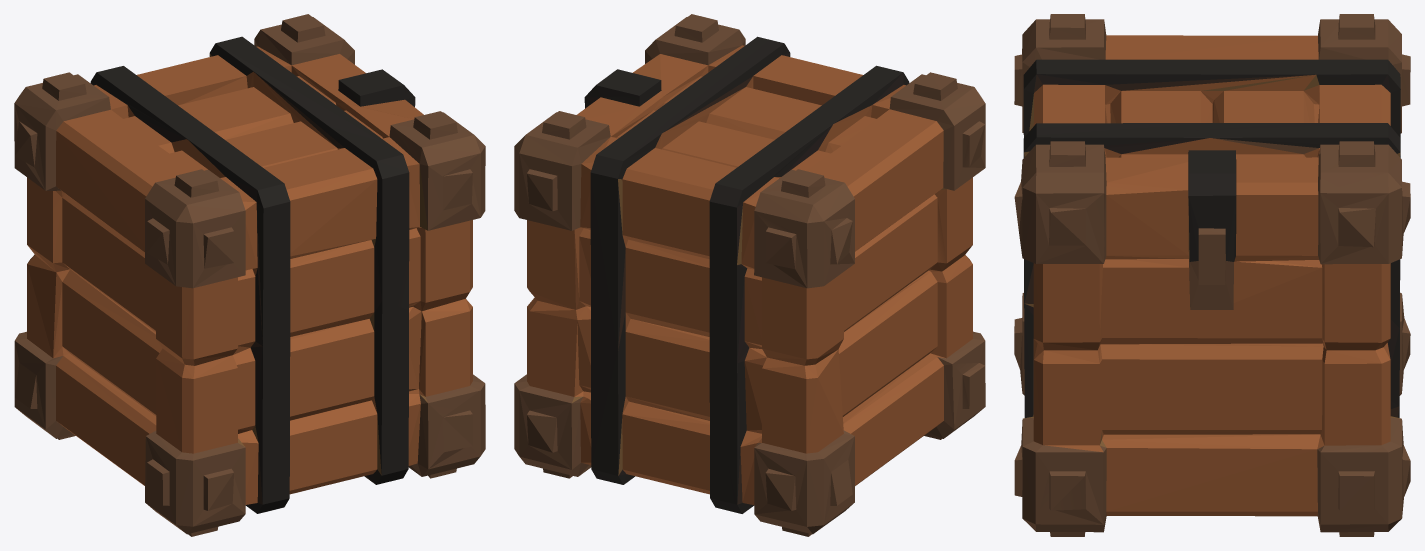
File: mdvl_props_crate_01.glb
3 views of the same model, side by side, from view 1: azimuth 30°, elevation 25°; view 2: azimuth 150°, elevation 25°; view 3: azimuth 270°, elevation 25° (orthographic). The views are drawn at different scales.
Parts seen in each view (by area): view 1: mdvl_props_crate_01; view 2: mdvl_props_crate_01; view 3: mdvl_props_crate_01.
Part boxes in pixels (left/top/right/bottom): mdvl_props_crate_01: left=14, top=14, right=485, bottom=536; mdvl_props_crate_01: left=514, top=14, right=985, bottom=536; mdvl_props_crate_01: left=1014, top=14, right=1410, bottom=536.
Bounding box in the file's own units: 0.5111 × 0.5267 × 0.4949.
1 material, 1 textured.
